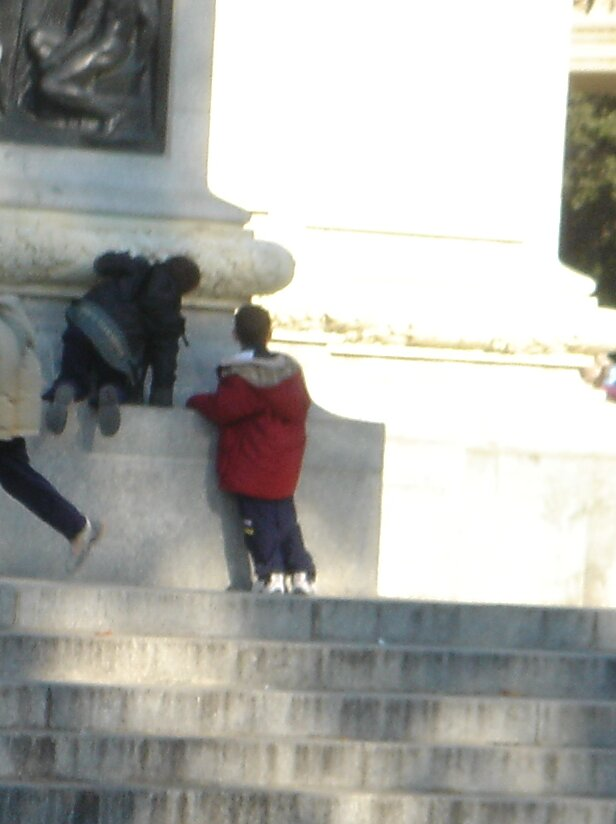person: (207, 303, 336, 599), (40, 235, 199, 438)
